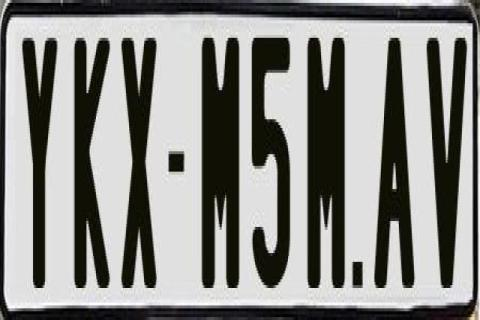0: (250, 38, 292, 300)
A: (373, 32, 417, 291)
K: (73, 35, 108, 288)
M: (307, 29, 351, 285), (199, 38, 240, 300)
V: (426, 29, 466, 279)
X: (121, 35, 159, 285)
Y: (22, 32, 62, 296)
